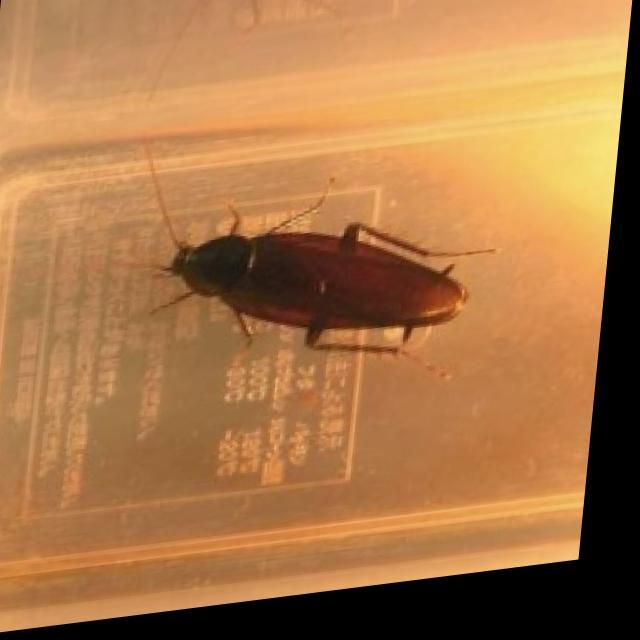cockroach: (133, 185, 506, 407)
